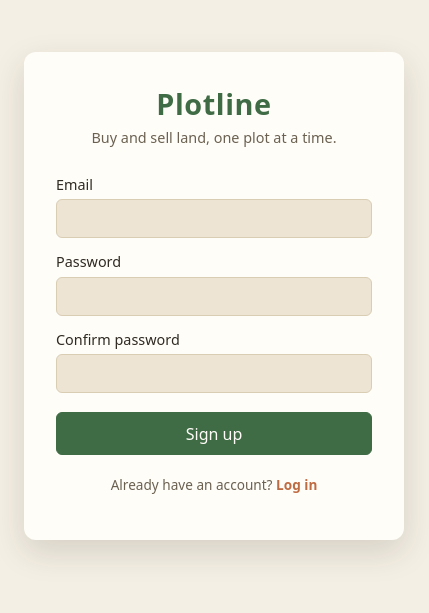
Test case: RegisterPage › shows the backend error message when registration fails
Type "user@example.com" into the field labelled "Email".
click(214, 219); type("user@example.com")  # box [56,199,372,238]
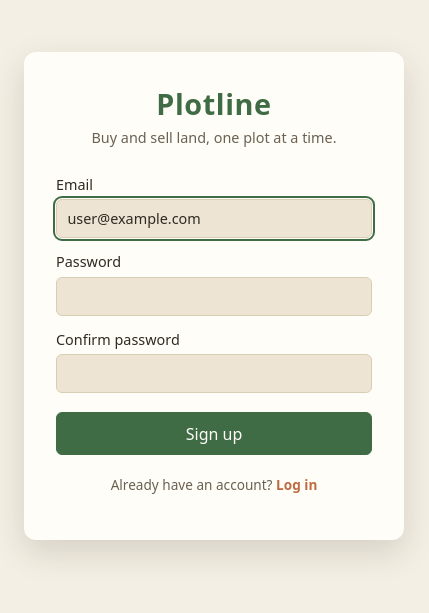
Type "password123" into the password field labelled "Password".
click(214, 296); type("password123")  # box [56,277,372,316]
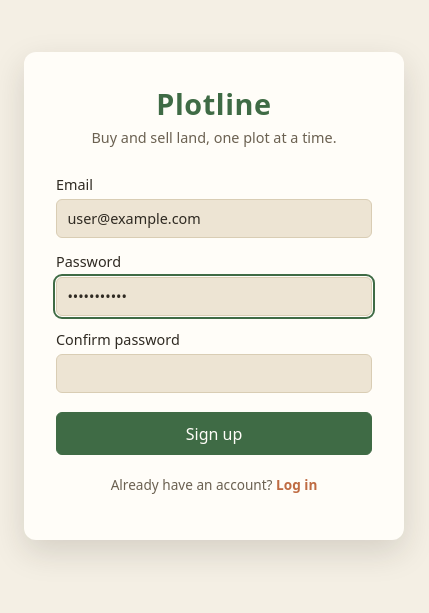
Type "password123" into the password field labelled "Confirm password".
click(214, 374); type("password123")  # box [56,354,372,393]
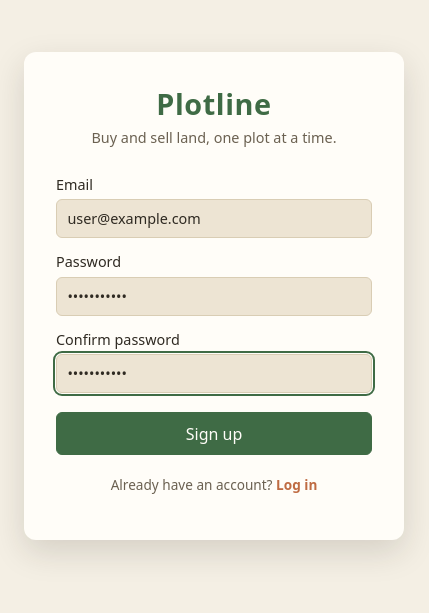
Click the button "Sign up".
click(214, 434)  # box [56,412,372,456]
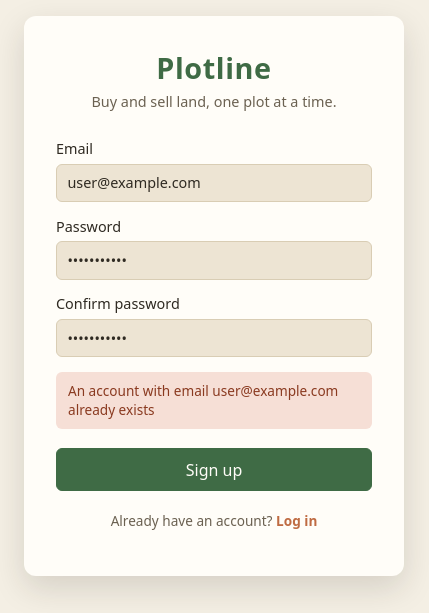
Expected: the text "An account with email user@example.com already exists" is shown, [56,372,372,429]
